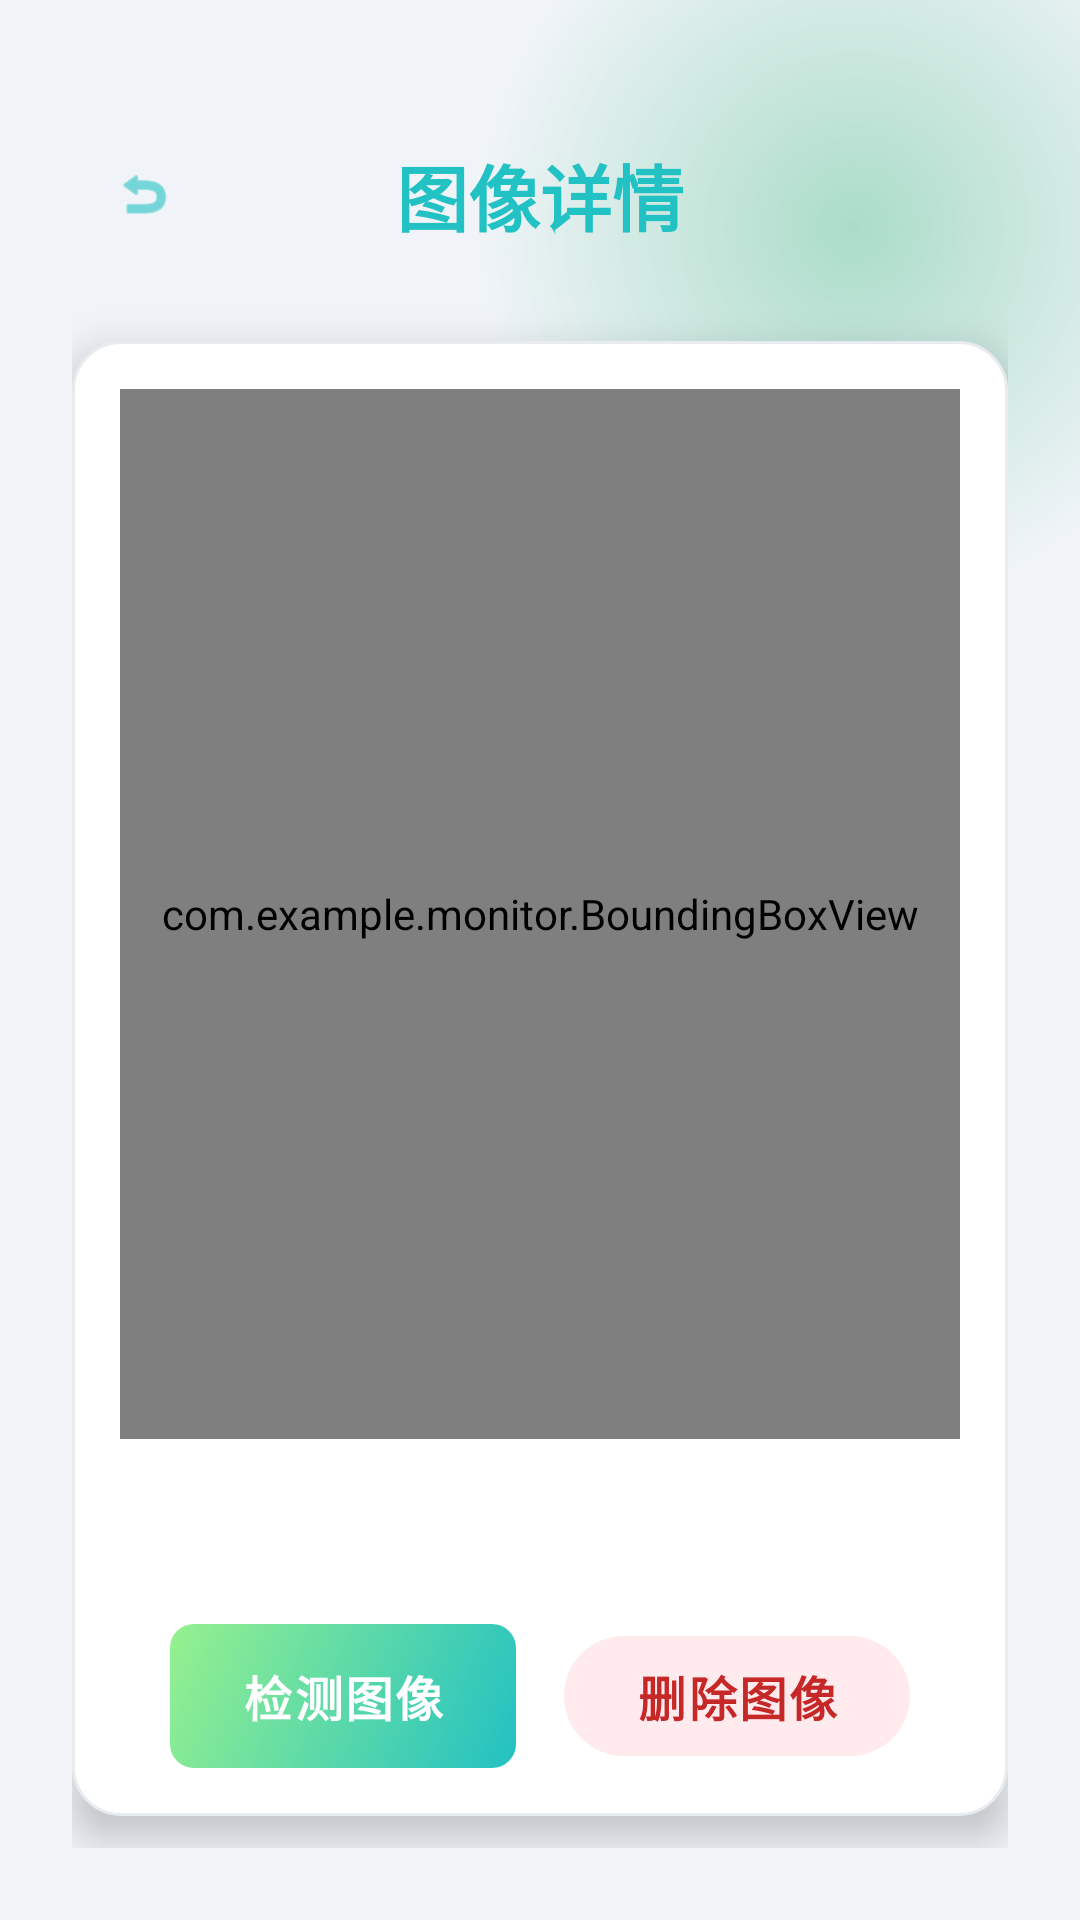

Icon click points for this 1080 × 1920 phone screenshot, format point (x, y):
revert: point (144, 194)
